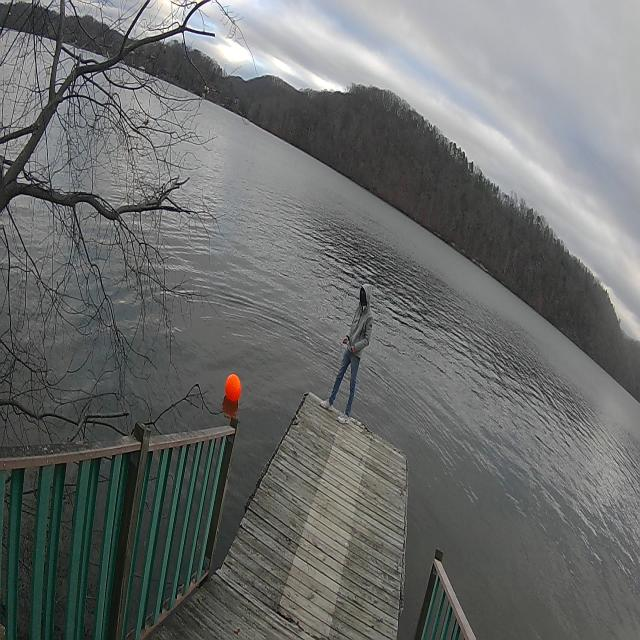Buoy: (224, 367, 244, 408)
